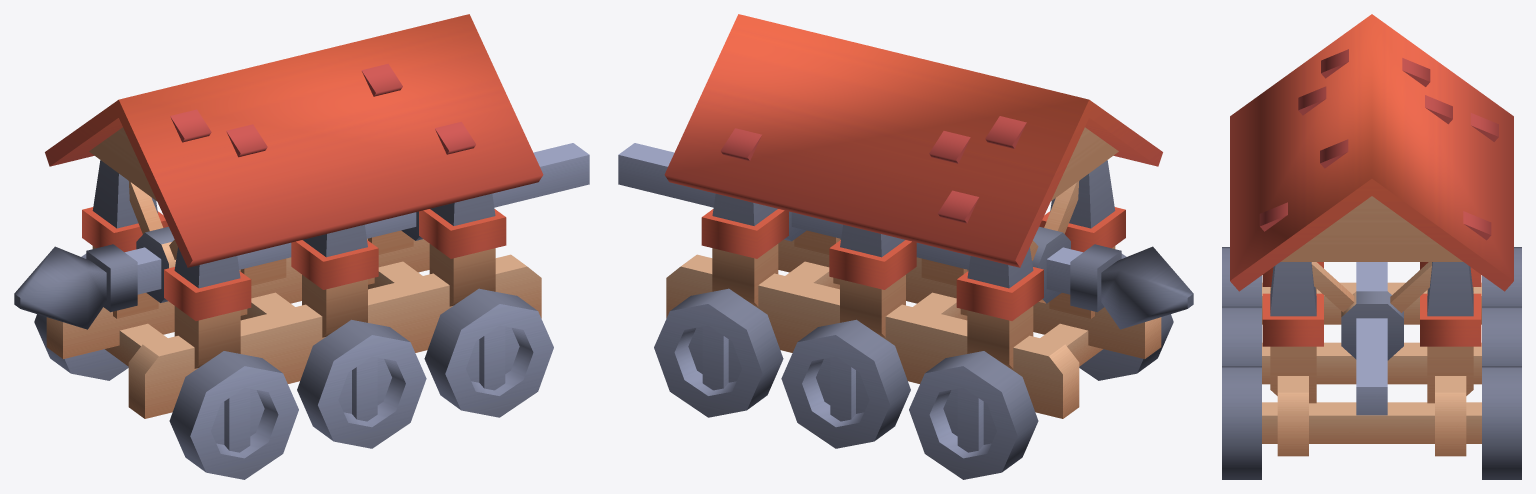
The model's file is siege-ram.fbx.
3 views of the same model, side by side, from view 1: azimuth 30°, elevation 25°; view 2: azimuth 150°, elevation 25°; view 3: azimuth 270°, elevation 25° (orthographic). The views are drawn at different scales.
Visible parts, largest first — view 1: siege-ram, ram, wheel.013, wheel.012, wheel.011, wheel.016; view 2: siege-ram, ram, wheel.014, wheel.015, wheel.016, wheel.011; view 3: siege-ram, wheel.013, wheel.014, ram, wheel.012, wheel.015, wheel.011, wheel.016.
Part boxes in pixels (x1=…): siege-ram: x1=45, y1=14, x2=543, y2=418; ram: x1=14, y1=143, x2=589, y2=329; wheel.013: x1=424, y1=288, x2=553, y2=417; wheel.012: x1=297, y1=319, x2=426, y2=448; wheel.011: x1=169, y1=351, x2=298, y2=479; wheel.016: x1=34, y1=253, x2=128, y2=380; siege-ram: x1=664, y1=14, x2=1162, y2=418; ram: x1=618, y1=143, x2=1193, y2=329; wheel.014: x1=654, y1=288, x2=783, y2=417; wheel.015: x1=781, y1=319, x2=910, y2=448; wheel.016: x1=909, y1=351, x2=1038, y2=479; wheel.011: x1=1079, y1=253, x2=1173, y2=380; siege-ram: x1=1230, y1=14, x2=1513, y2=456; wheel.013: x1=1222, y1=366, x2=1261, y2=479; wheel.014: x1=1482, y1=366, x2=1521, y2=479; ram: x1=1356, y1=262, x2=1387, y2=415; wheel.012: x1=1222, y1=306, x2=1261, y2=366; wheel.015: x1=1482, y1=306, x2=1521, y2=366; wheel.011: x1=1222, y1=247, x2=1261, y2=306; wheel.016: x1=1482, y1=247, x2=1521, y2=306.
Size of the model in its own units: 2.09 by 1 by 1.18.
